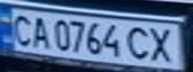0: (48, 17, 72, 52)
4: (100, 21, 127, 59)
6: (84, 20, 106, 56)
7: (66, 18, 87, 54)
A: (27, 14, 51, 50)
C: (124, 24, 154, 61), (6, 11, 36, 47)
X: (145, 25, 184, 65)
